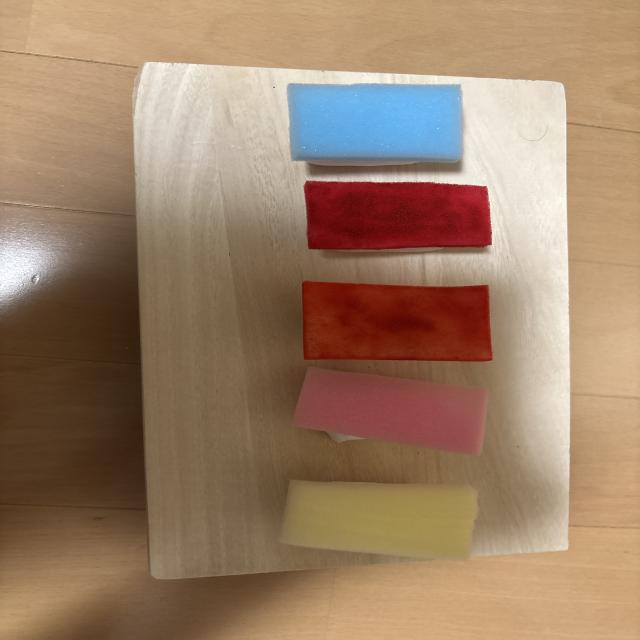ika: (287, 83, 463, 165)
maguro: (304, 181, 492, 250)
salmon: (302, 281, 492, 361)
tai: (293, 367, 488, 455)
tamago: (281, 480, 477, 558)
